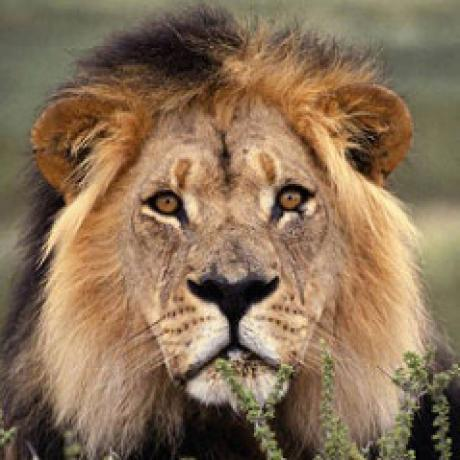Lion: (1, 11, 426, 460)
